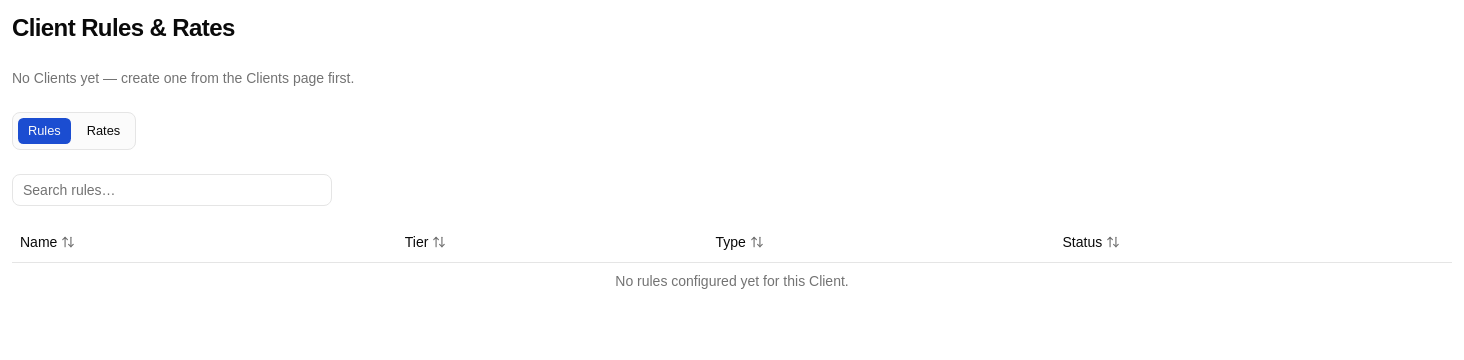
ClientRulesRatesPage › AC: rates table loads for the selected Client (Rates tab)
Click the tab "Rates" at (103, 131), box [76,117,131,145]
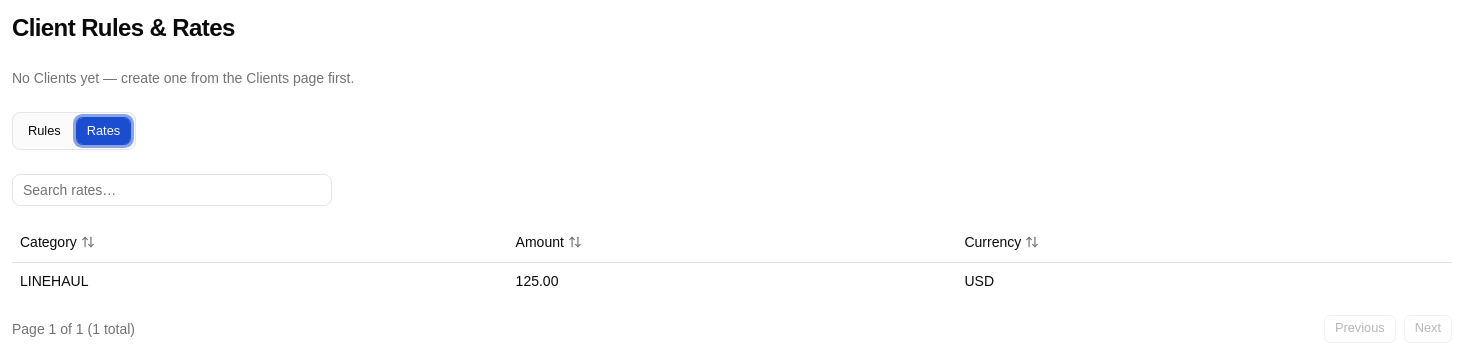
Expected: the text "LINEHAUL" is shown, [12,262,508,298]
Expected: the text "125.00" is shown, [508,262,956,298]
